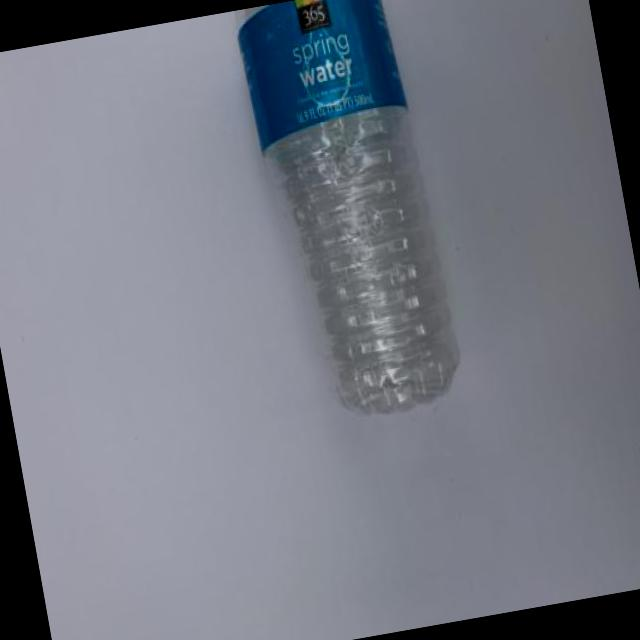Recycle: (232, 0, 471, 430)
